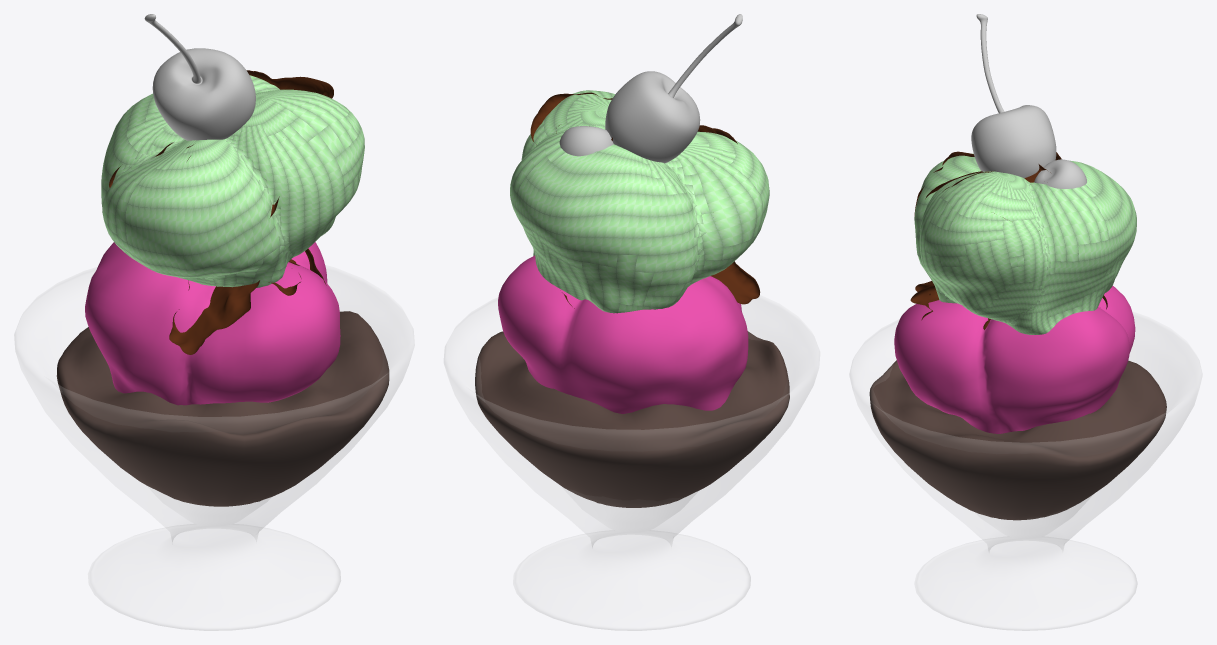
Rendered from IceMoncery.fbx.
3 renders of one model, left to right at view 1: azimuth 30°, elevation 25°; view 2: azimuth 150°, elevation 25°; view 3: azimuth 270°, elevation 25°, orthographic. The views are drawn at different scales.
Visible parts, largest first — view 1: Gelas, Es2, Krim, Es1, Ceri1, Topping2, Topping1; view 2: Gelas, Es2, Krim, Es1, Ceri1, Ceri2, Topping2, Topping1; view 3: Gelas, Es2, Krim, Es1, Ceri1, Ceri2, Topping2, Topping1.
Boxes of the visible parts, x1,y1,x2,y2 form: Gelas: [14, 266, 414, 630]; Es2: [101, 75, 364, 287]; Krim: [56, 311, 389, 506]; Es1: [85, 242, 340, 405]; Ceri1: [144, 14, 255, 140]; Topping2: [169, 248, 326, 354]; Topping1: [109, 70, 333, 217]; Gelas: [444, 295, 819, 630]; Es2: [510, 90, 769, 313]; Krim: [475, 331, 789, 507]; Es1: [498, 255, 748, 413]; Ceri1: [605, 14, 742, 163]; Ceri2: [559, 126, 613, 156]; Topping2: [562, 261, 760, 308]; Topping1: [530, 92, 737, 158]; Gelas: [850, 312, 1201, 630]; Es2: [914, 153, 1136, 334]; Krim: [869, 360, 1166, 520]; Es1: [894, 286, 1135, 433]; Ceri1: [971, 14, 1056, 178]; Ceri2: [1034, 159, 1086, 188]; Topping2: [910, 281, 1107, 329]; Topping1: [914, 151, 1061, 230].
Bounding box in the file's own units: 301 × 499 × 301.
